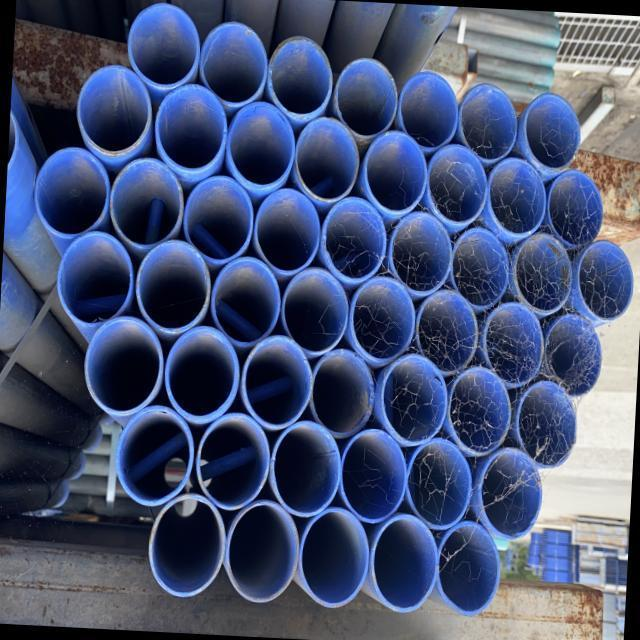pipe: (146, 492, 229, 601), (81, 314, 167, 419), (113, 403, 197, 510), (223, 497, 302, 606), (162, 323, 243, 427), (55, 228, 137, 330), (194, 410, 273, 514), (134, 238, 214, 338), (32, 145, 114, 242), (73, 63, 155, 160), (298, 505, 373, 610), (367, 511, 442, 616), (268, 418, 344, 520), (108, 156, 187, 253), (153, 81, 230, 178), (240, 333, 316, 431), (338, 426, 411, 527), (378, 351, 452, 450), (181, 172, 257, 267), (125, 1, 203, 93), (210, 254, 284, 350), (435, 519, 504, 619), (405, 436, 476, 533), (224, 101, 298, 193), (476, 445, 546, 542), (307, 347, 378, 442), (198, 19, 272, 110), (279, 266, 352, 357), (252, 187, 324, 279), (291, 114, 362, 207), (445, 363, 514, 458), (348, 275, 419, 367), (319, 194, 389, 285), (413, 287, 482, 378), (266, 34, 336, 123), (481, 299, 548, 390), (363, 128, 430, 219), (514, 380, 580, 471), (387, 210, 455, 298), (332, 56, 400, 143), (425, 142, 491, 229), (511, 231, 576, 318), (543, 312, 605, 402), (396, 70, 461, 155), (456, 82, 520, 168), (485, 156, 549, 240), (450, 227, 512, 313), (575, 238, 637, 324), (545, 168, 606, 251), (522, 94, 583, 175)
